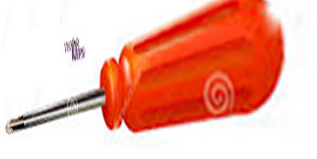screwdriver: (11, 1, 288, 156)
